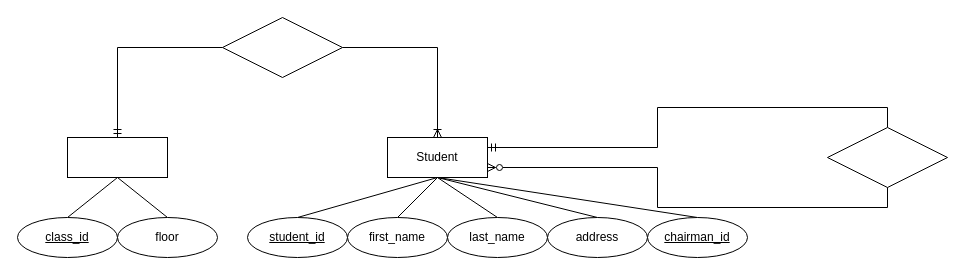
Some shapes in this 965 by 275 pixel diagram are drawn without their labels. The centre of each missing label's shape, as x and y in pixels:
Class: (x=117, y=157)
LEADING: (x=887, y=157)
USING: (x=282, y=47)
